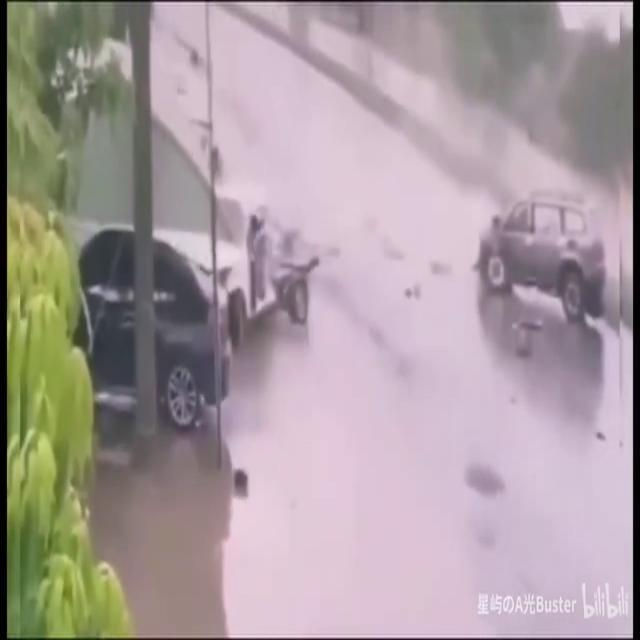multiple_accident: (15, 153, 383, 457), (452, 118, 640, 337)
